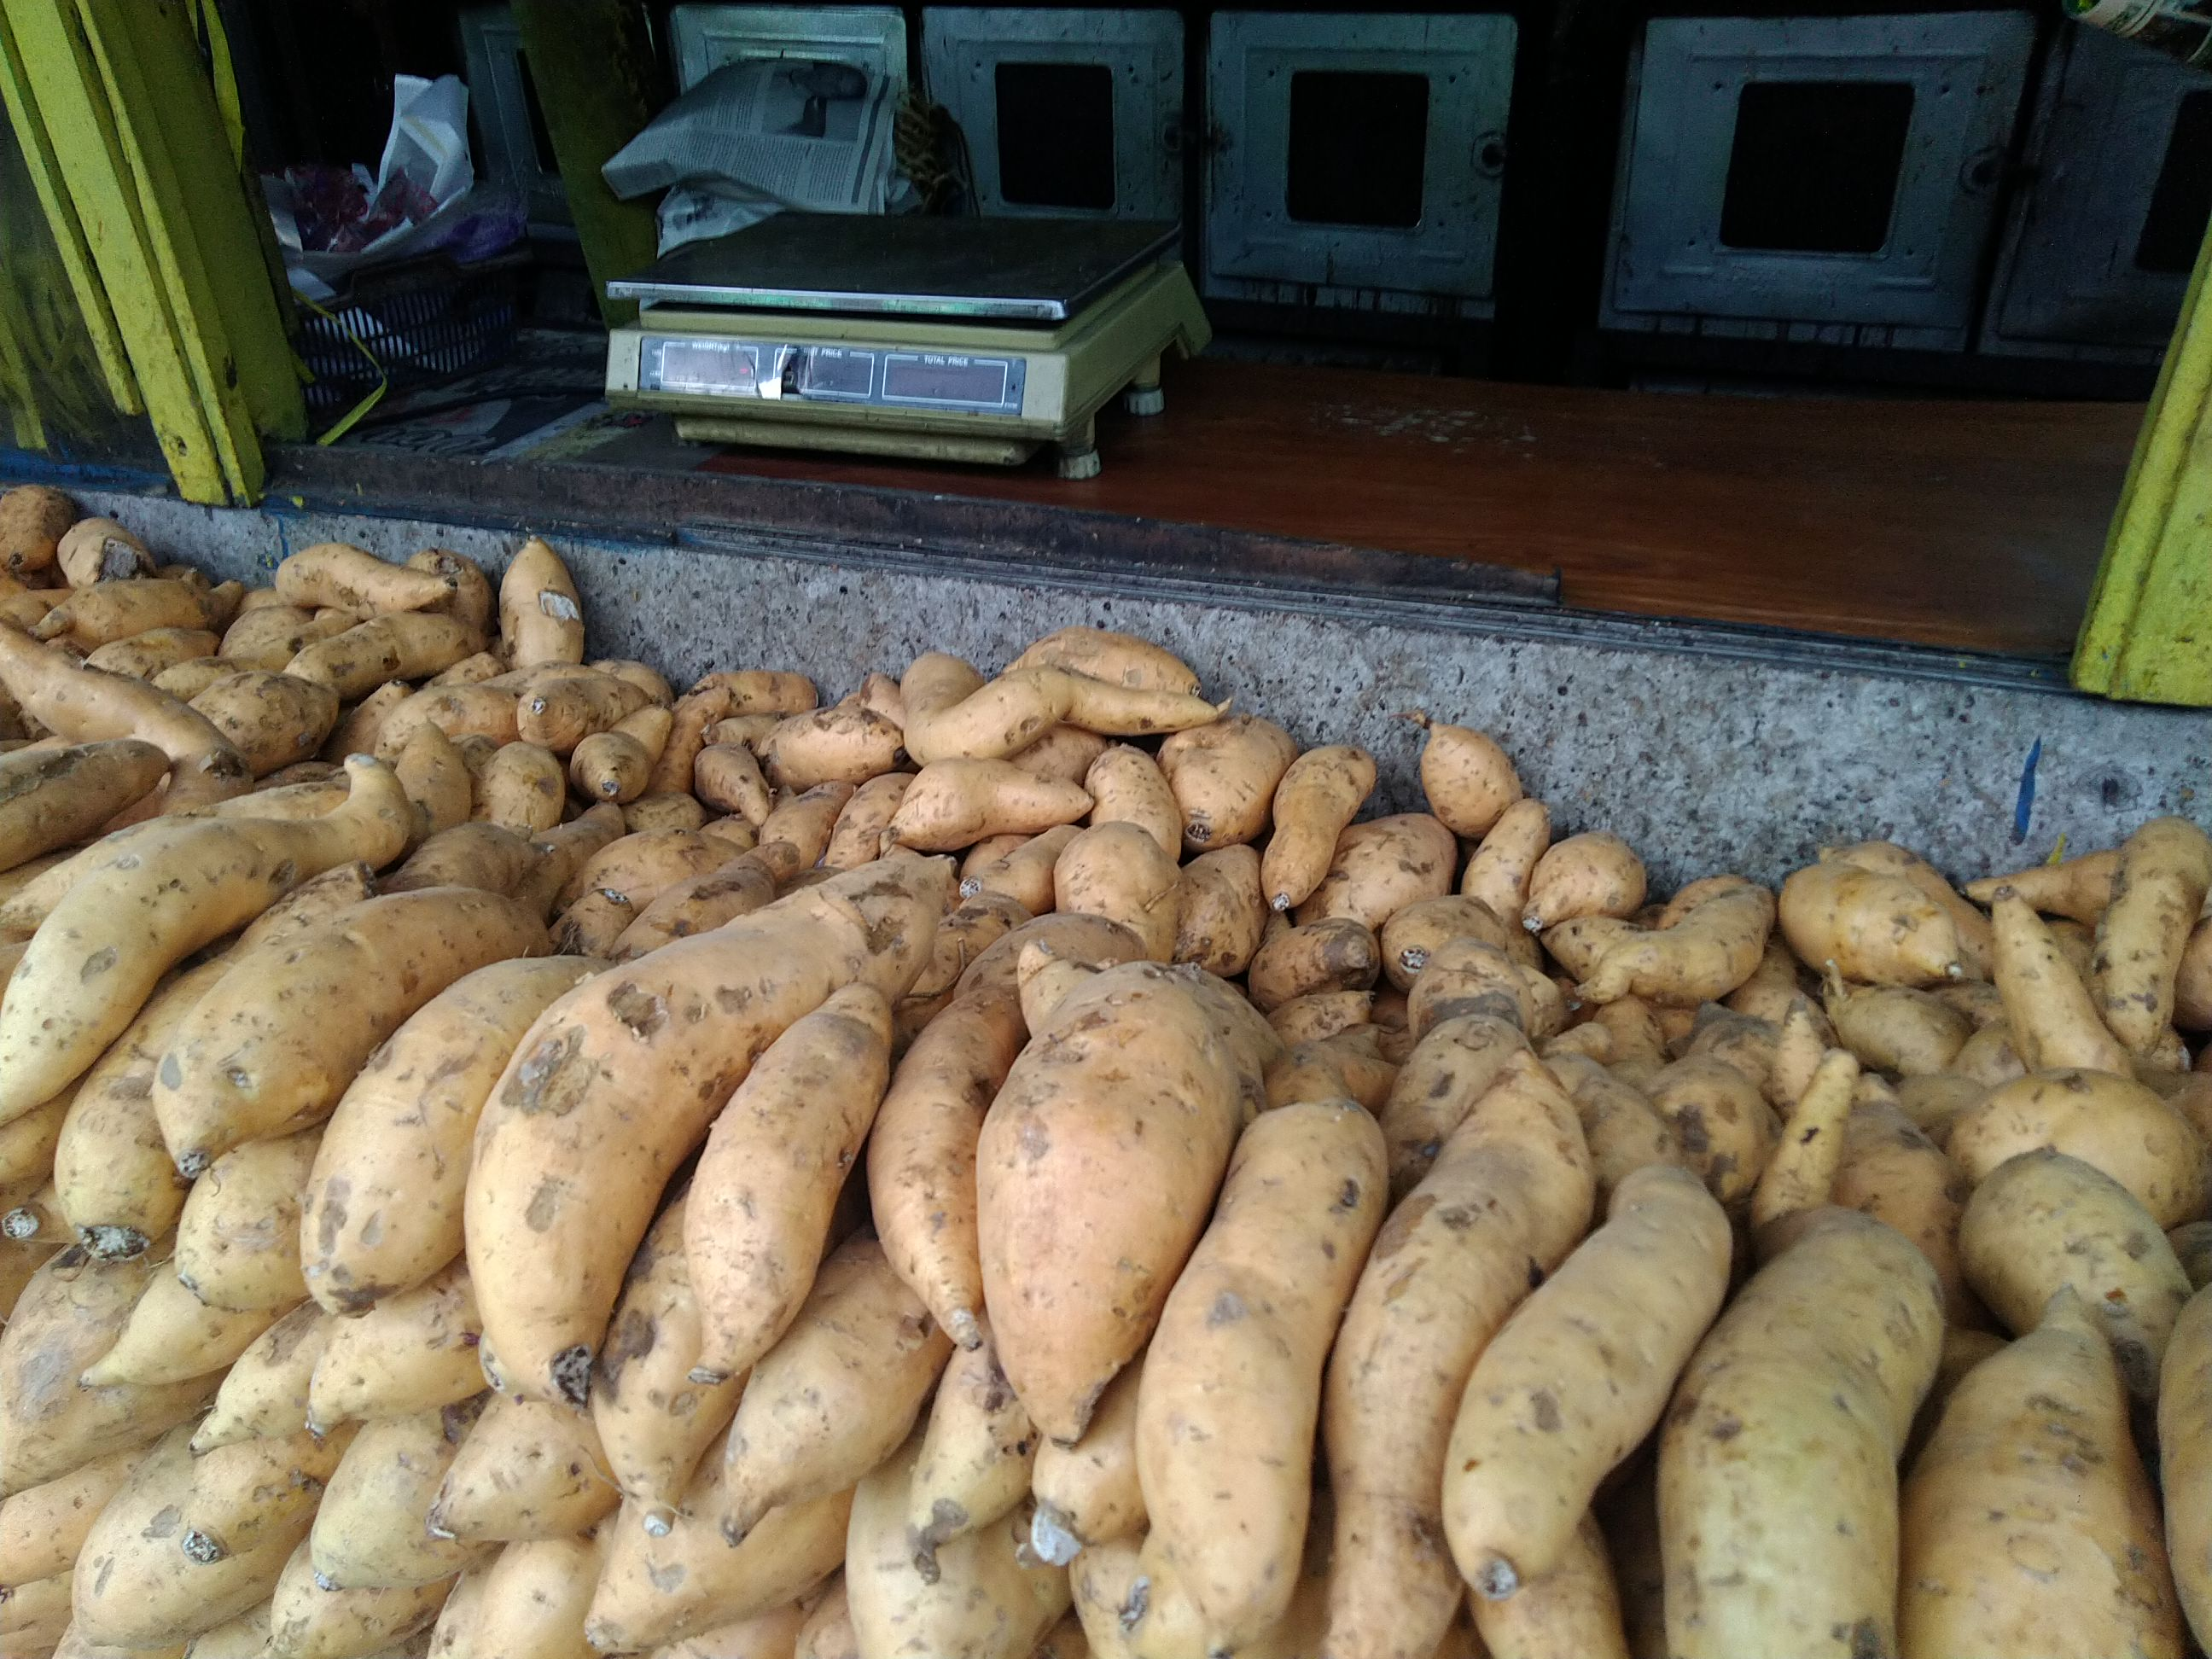ubi cilembu: (0, 481, 2209, 1654), (1435, 1152, 1771, 1615), (968, 934, 1245, 1459), (277, 934, 627, 1333), (138, 875, 561, 1201), (674, 964, 934, 1429), (895, 631, 1228, 857), (0, 587, 253, 786), (1939, 1072, 2212, 1241), (1531, 857, 1792, 1012), (1766, 847, 1984, 1011), (2088, 819, 2212, 1058), (1249, 730, 1402, 913), (1418, 702, 1531, 857), (749, 695, 911, 802), (253, 542, 465, 622)
